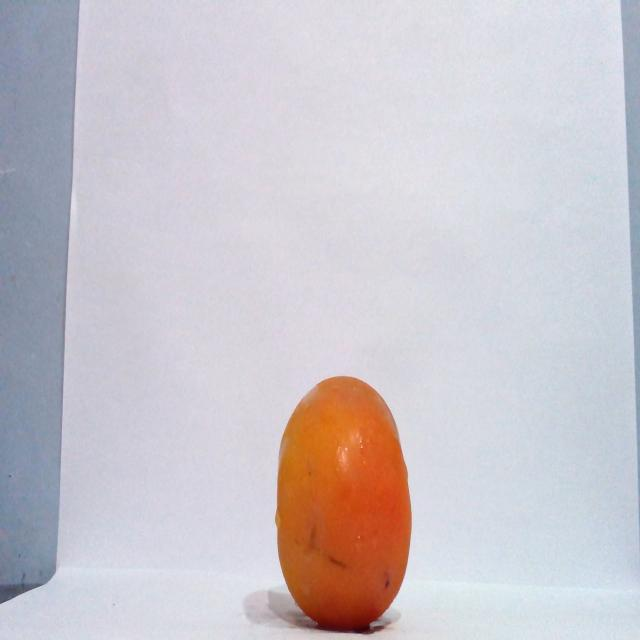Red: (273, 374, 413, 631)
